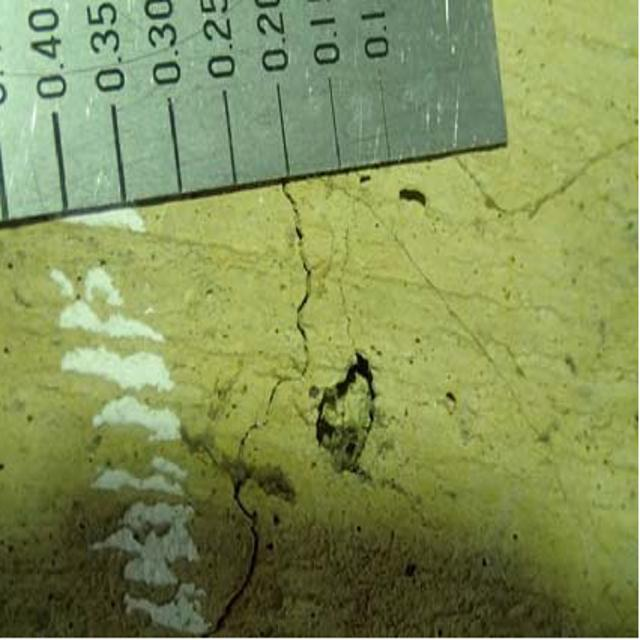crack: (197, 192, 344, 634)
